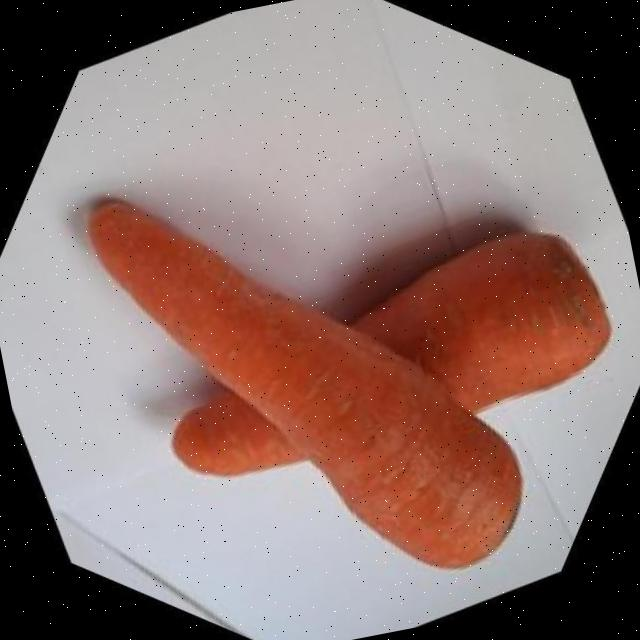carrot: (88, 201, 521, 567), (170, 232, 609, 475)
